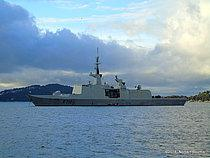MIL_Ship: (27, 45, 188, 108)
